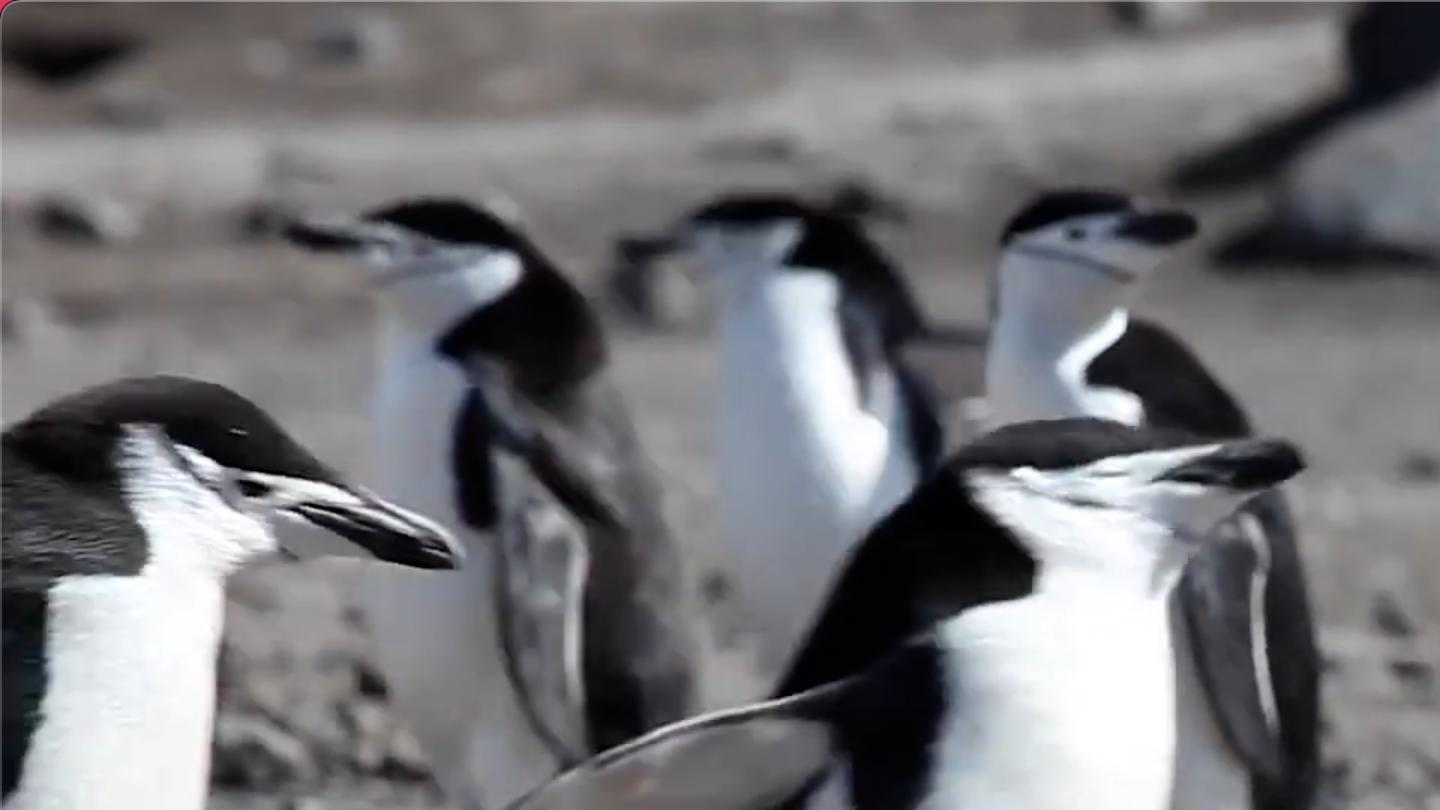Chinstrap Penguin: (428, 417, 1340, 810), (273, 170, 717, 800), (973, 143, 1380, 810), (0, 350, 466, 810)
